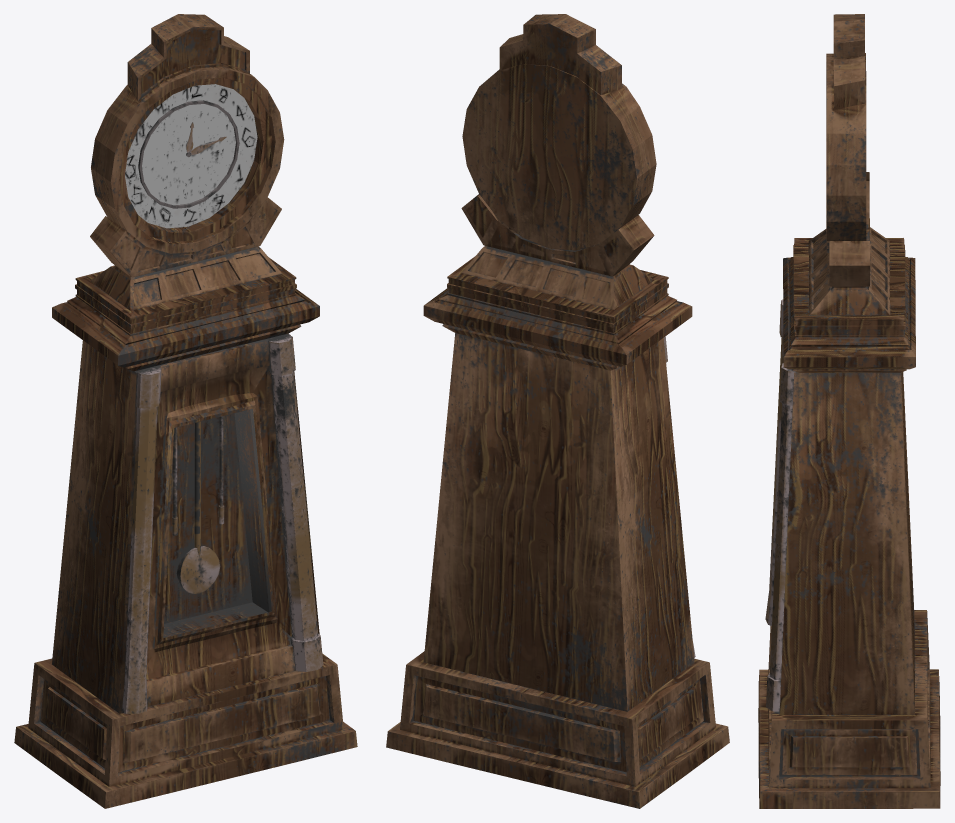
The model's file is M_OldClock.fbx.
3 views of the same model, side by side, from view 1: azimuth 30°, elevation 25°; view 2: azimuth 150°, elevation 25°; view 3: azimuth 270°, elevation 25° (orthographic).
Parts seen in each view (by area): view 1: grandfatherclock_GEO; view 2: grandfatherclock_GEO; view 3: grandfatherclock_GEO.
Boxes of the visible parts, box(x1,y1,x2,y2) form: grandfatherclock_GEO: box(14, 14, 357, 808); grandfatherclock_GEO: box(386, 14, 729, 808); grandfatherclock_GEO: box(758, 14, 940, 808).
Size of the model in its own units: 0.9952 by 2.72 by 0.6175.
Materials: 1 (1 with a texture image).
